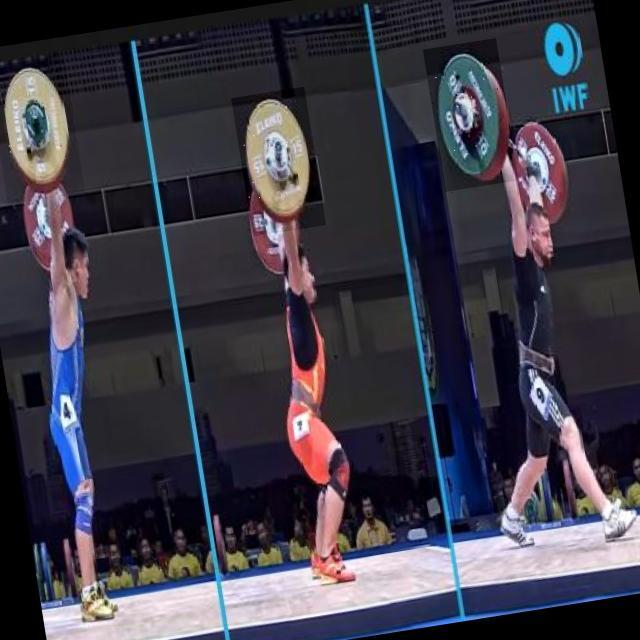barbell: (425, 40, 521, 196), (232, 88, 327, 238), (1, 56, 86, 205)
